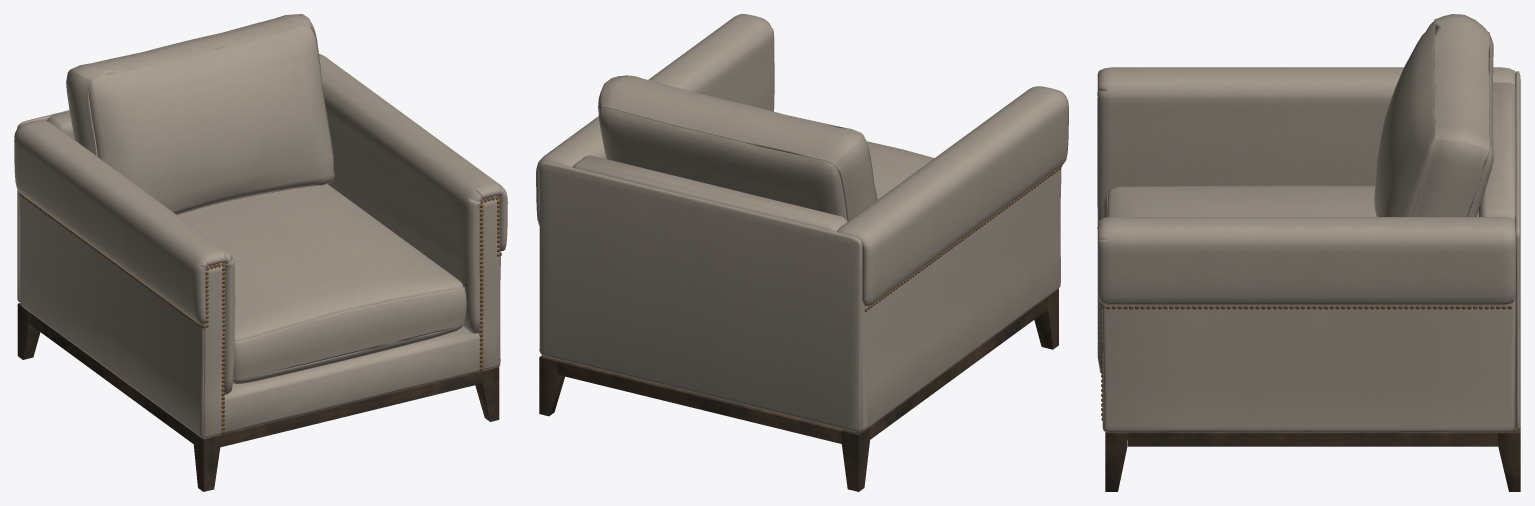
3 views of the same model, side by side, from view 1: azimuth 30°, elevation 25°; view 2: azimuth 150°, elevation 25°; view 3: azimuth 270°, elevation 25° (orthographic). The views are drawn at different scales.
Parts seen in each view (by area): view 1: B075X342T5; view 2: B075X342T5; view 3: B075X342T5.
Boxes of the visible parts, x1,y1,x2,y2 form: B075X342T5: (14, 14, 507, 491); B075X342T5: (536, 14, 1068, 491); B075X342T5: (1097, 14, 1520, 491).
Size of the model in its own units: 0.9142 by 0.838 by 0.9586.
Materials: 1 (1 with a texture image).
